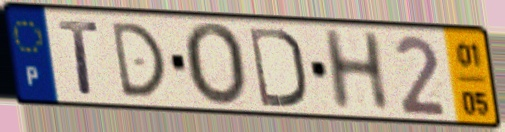2: (389, 31, 450, 119)
D: (246, 24, 309, 110), (108, 19, 169, 100)
H: (318, 27, 395, 114)
O: (180, 20, 249, 110)
T: (55, 17, 102, 98)
